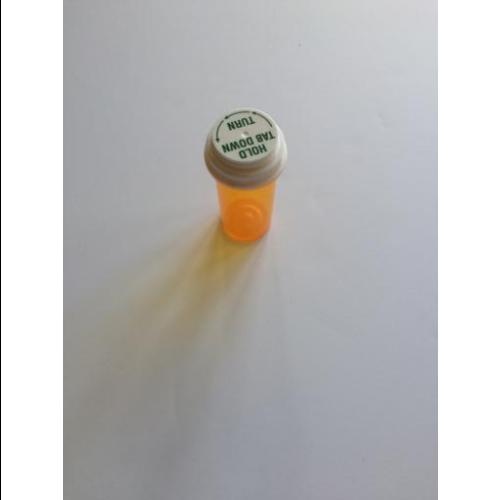plastic: (208, 107, 283, 246)
